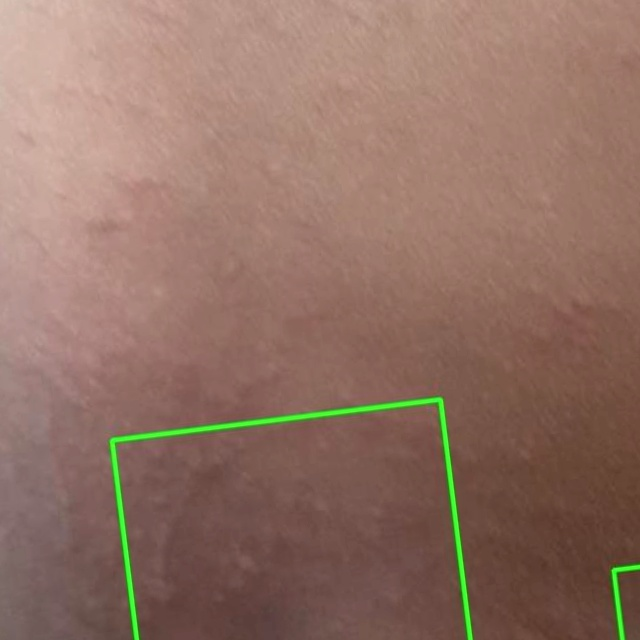Atopic Dermatitis: (111, 399, 470, 639)
